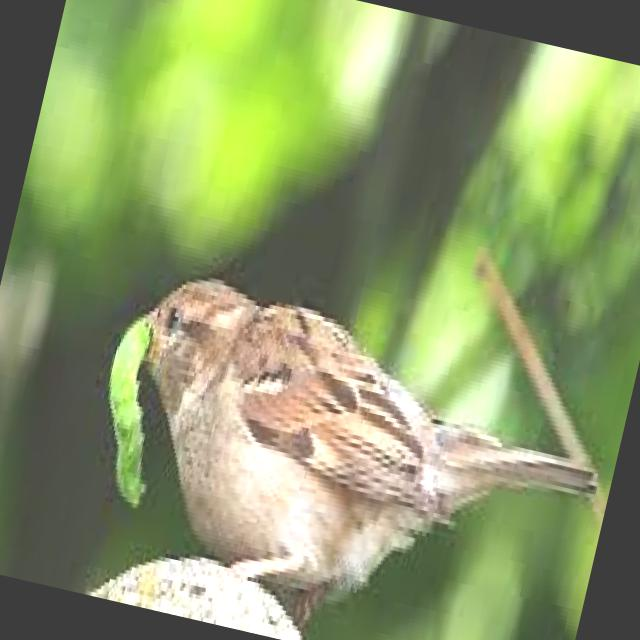bird: (86, 256, 629, 640)
